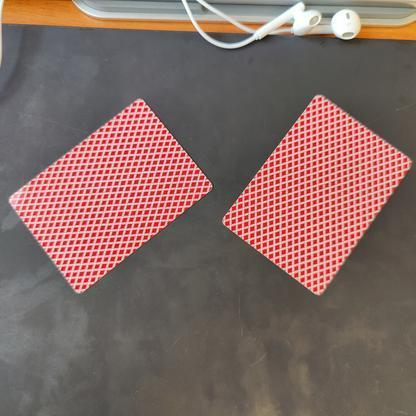card: (2, 92, 219, 301), (221, 91, 416, 299)
